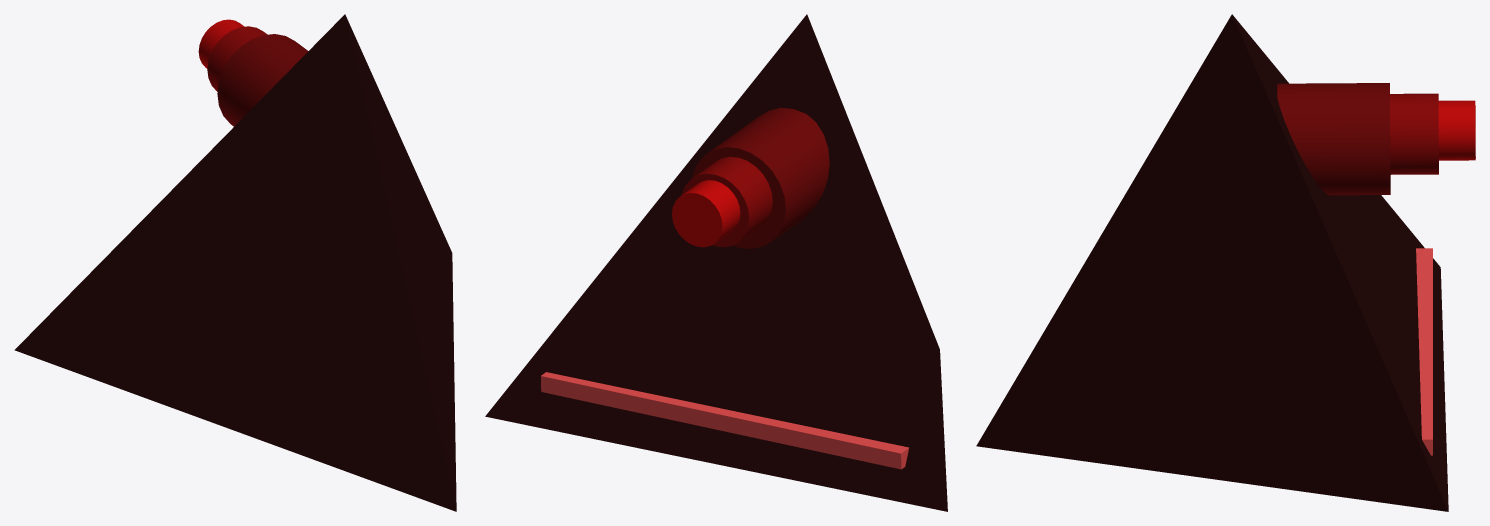
The model's file is robot.fbx.
3 views of the same model, side by side, from view 1: azimuth 30°, elevation 25°; view 2: azimuth 150°, elevation 25°; view 3: azimuth 270°, elevation 25° (orthographic). The views are drawn at different scales.
Parts seen in each view (by area): view 1: Tetrahedron, Cylinder, Cylinder1, Cylinder2; view 2: Tetrahedron, Cylinder, Box, Cylinder2, Cylinder1; view 3: Tetrahedron, Cylinder, Cylinder1, Box, Cylinder2.
Boxes of the visible parts, left/top/right/bottom form: Tetrahedron: left=14, top=14, right=456, bottom=511; Cylinder: left=217, top=34, right=308, bottom=126; Cylinder1: left=207, top=26, right=267, bottom=91; Cylinder2: left=198, top=19, right=243, bottom=68; Tetrahedron: left=485, top=14, right=947, bottom=511; Cylinder: left=692, top=107, right=829, bottom=248; Box: left=541, top=372, right=908, bottom=469; Cylinder2: left=672, top=180, right=740, bottom=247; Cylinder1: left=682, top=156, right=772, bottom=247; Tetrahedron: left=976, top=14, right=1448, bottom=511; Cylinder: left=1277, top=83, right=1390, bottom=195; Cylinder1: left=1390, top=93, right=1438, bottom=174; Box: left=1416, top=248, right=1432, bottom=455; Cylinder2: left=1438, top=100, right=1475, bottom=160.
Bounding box in the file's own units: 2.72 × 2.4 × 2.49.
